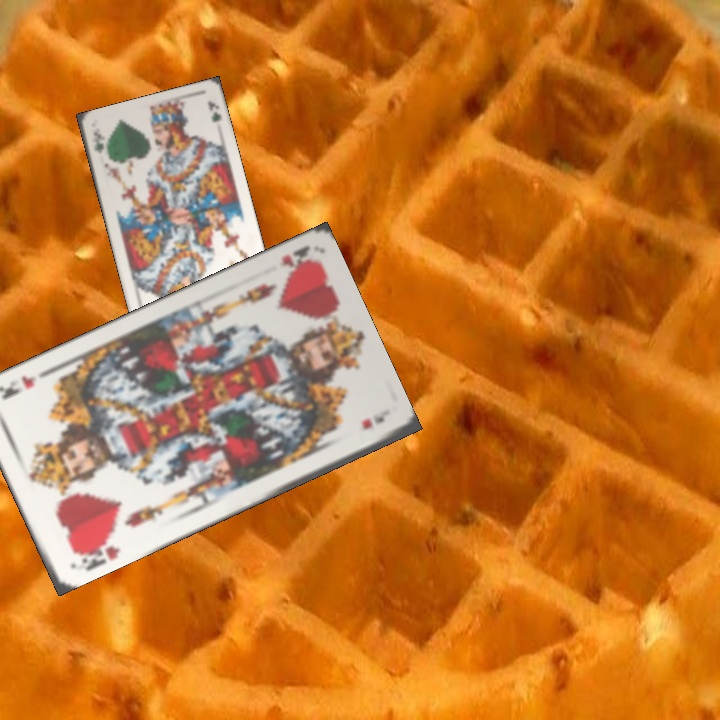GK: (90, 128, 106, 156)
HK: (70, 532, 123, 574), (276, 242, 316, 276)
